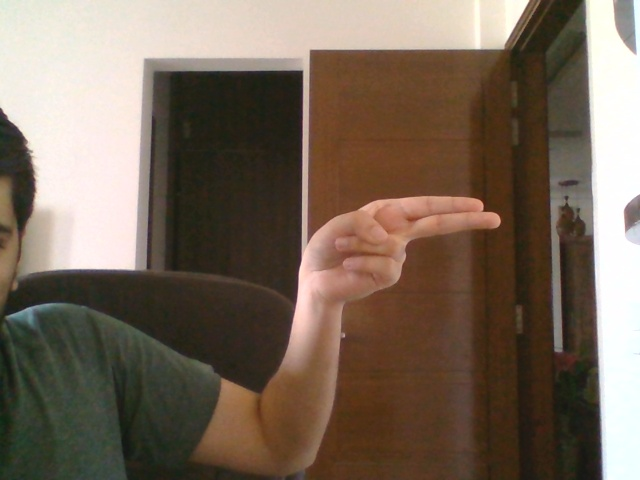LetterH: (300, 194, 501, 303)
